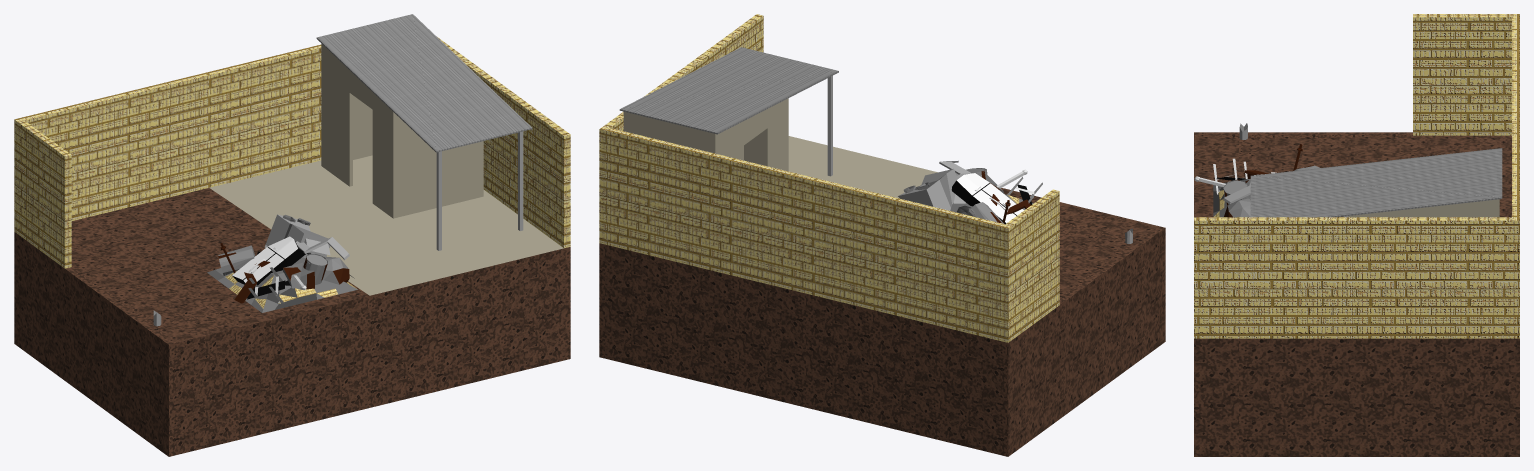
Rendered from Hiding Place.glb.
The picture shows the model from 3 angles, left to right: view 1: azimuth 30°, elevation 25°; view 2: azimuth 150°, elevation 25°; view 3: azimuth 270°, elevation 25°; orthographic projection. The views are drawn at different scales.
Visible parts, largest first — view 1: Ground, Walls, Small Hut, Rubble, Lean-to Supports; view 2: Ground, Walls, Small Hut, Rubble, Lean-to Supports; view 3: Walls, Ground, Small Hut, Rubble.
Boxes of the visible parts, x1,y1,x2,y2 form: Ground: [14, 155, 570, 456]; Walls: [14, 37, 570, 268]; Small Hut: [316, 14, 532, 218]; Rubble: [207, 214, 357, 312]; Lean-to Supports: [436, 131, 523, 250]; Ground: [599, 136, 1165, 456]; Walls: [599, 14, 1059, 342]; Small Hut: [619, 47, 838, 171]; Rubble: [898, 160, 1042, 224]; Lean-to Supports: [827, 75, 832, 176]; Walls: [1194, 14, 1519, 338]; Ground: [1194, 132, 1519, 456]; Small Hut: [1250, 148, 1502, 217]; Rubble: [1194, 144, 1348, 217].
Bounding box in the file's own units: 9.14 × 5.23 × 6.1.
Materials: 22 (3 with a texture image).
